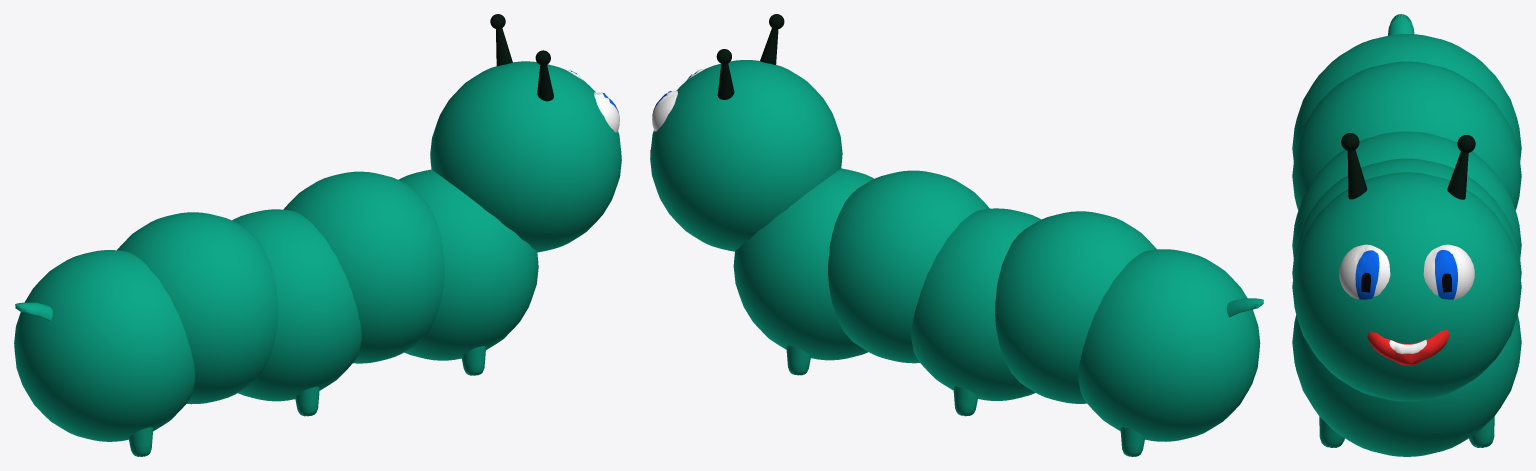
3 renders of one model, left to right at view 1: azimuth 30°, elevation 25°; view 2: azimuth 150°, elevation 25°; view 3: azimuth 270°, elevation 25°, orthographic. The views are drawn at different scales.
Parts seen in each view (by area): view 1: tirtil; view 2: tirtil; view 3: tirtil.
Part boxes in pixels (bbox=[...]): tirtil: bbox=[14, 14, 621, 456]; tirtil: bbox=[650, 14, 1263, 456]; tirtil: bbox=[1292, 14, 1521, 456].
Size of the model in its own units: 36.05 by 17.19 by 10.
